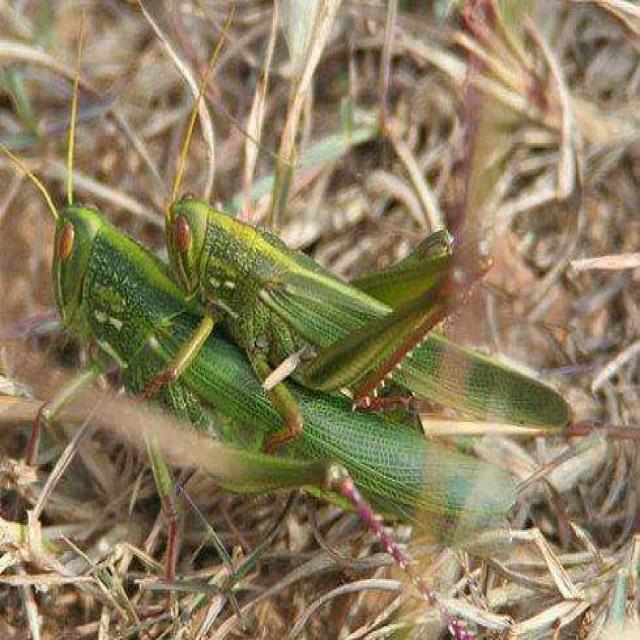ZhaMeng: (147, 176, 588, 434)
